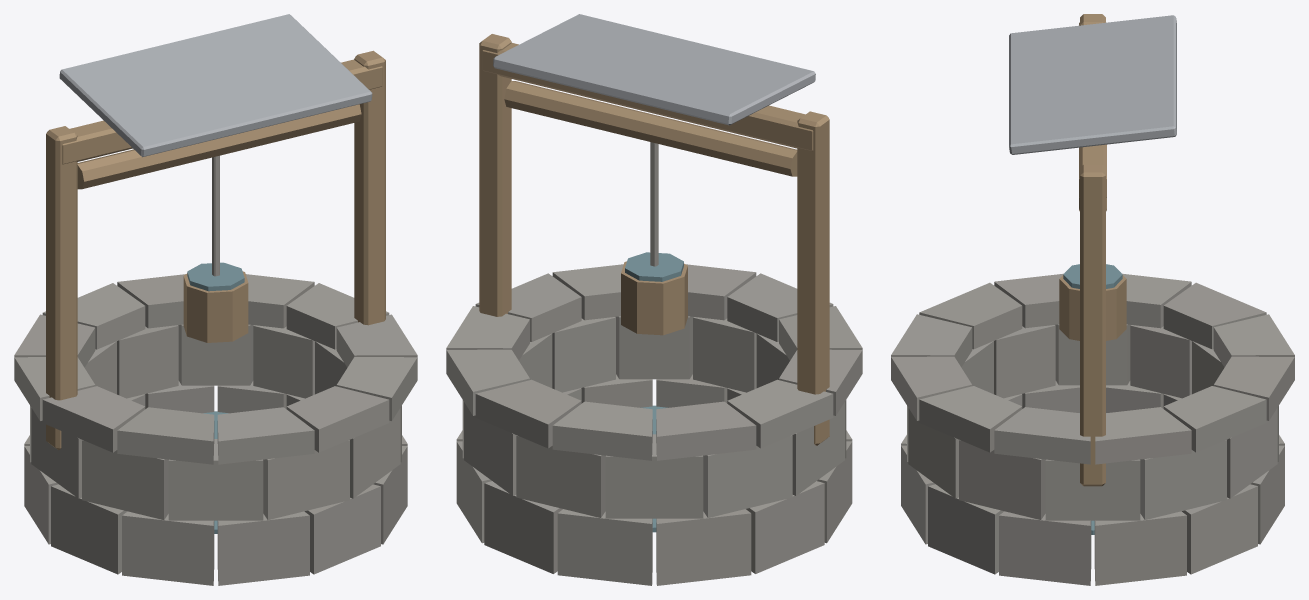
File: well.glb
The picture shows the model from 3 angles, left to right: view 1: azimuth 30°, elevation 25°; view 2: azimuth 150°, elevation 25°; view 3: azimuth 270°, elevation 25°; orthographic projection. The views are drawn at different scales.
Visible parts, largest first — view 1: well; view 2: well; view 3: well.
Boxes of the visible parts, box(x1,y1,x2,y2) form: well: box(14, 14, 417, 585); well: box(446, 14, 862, 585); well: box(891, 14, 1294, 585).
Bounding box in the file's own units: 2.04 × 2.42 × 2.04.
